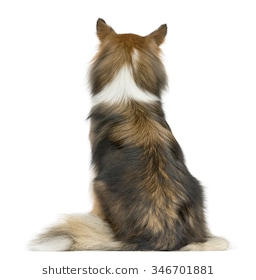dog: (30, 17, 233, 252)
